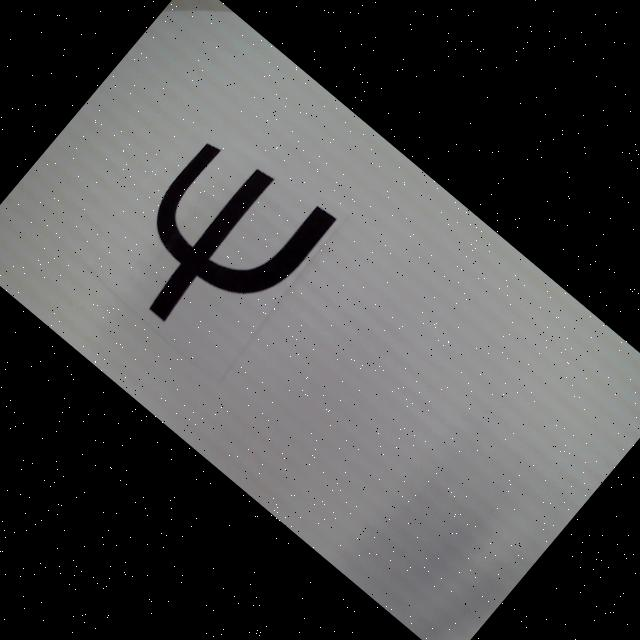PSI: (99, 122, 338, 365)
